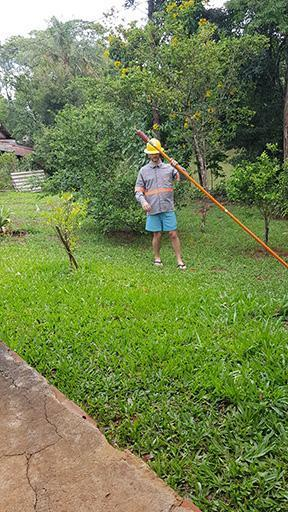helmet: (144, 137, 165, 163)
